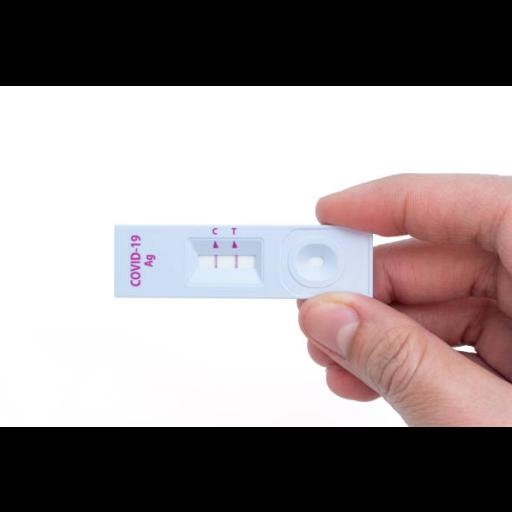Pos: (114, 222, 372, 300)
